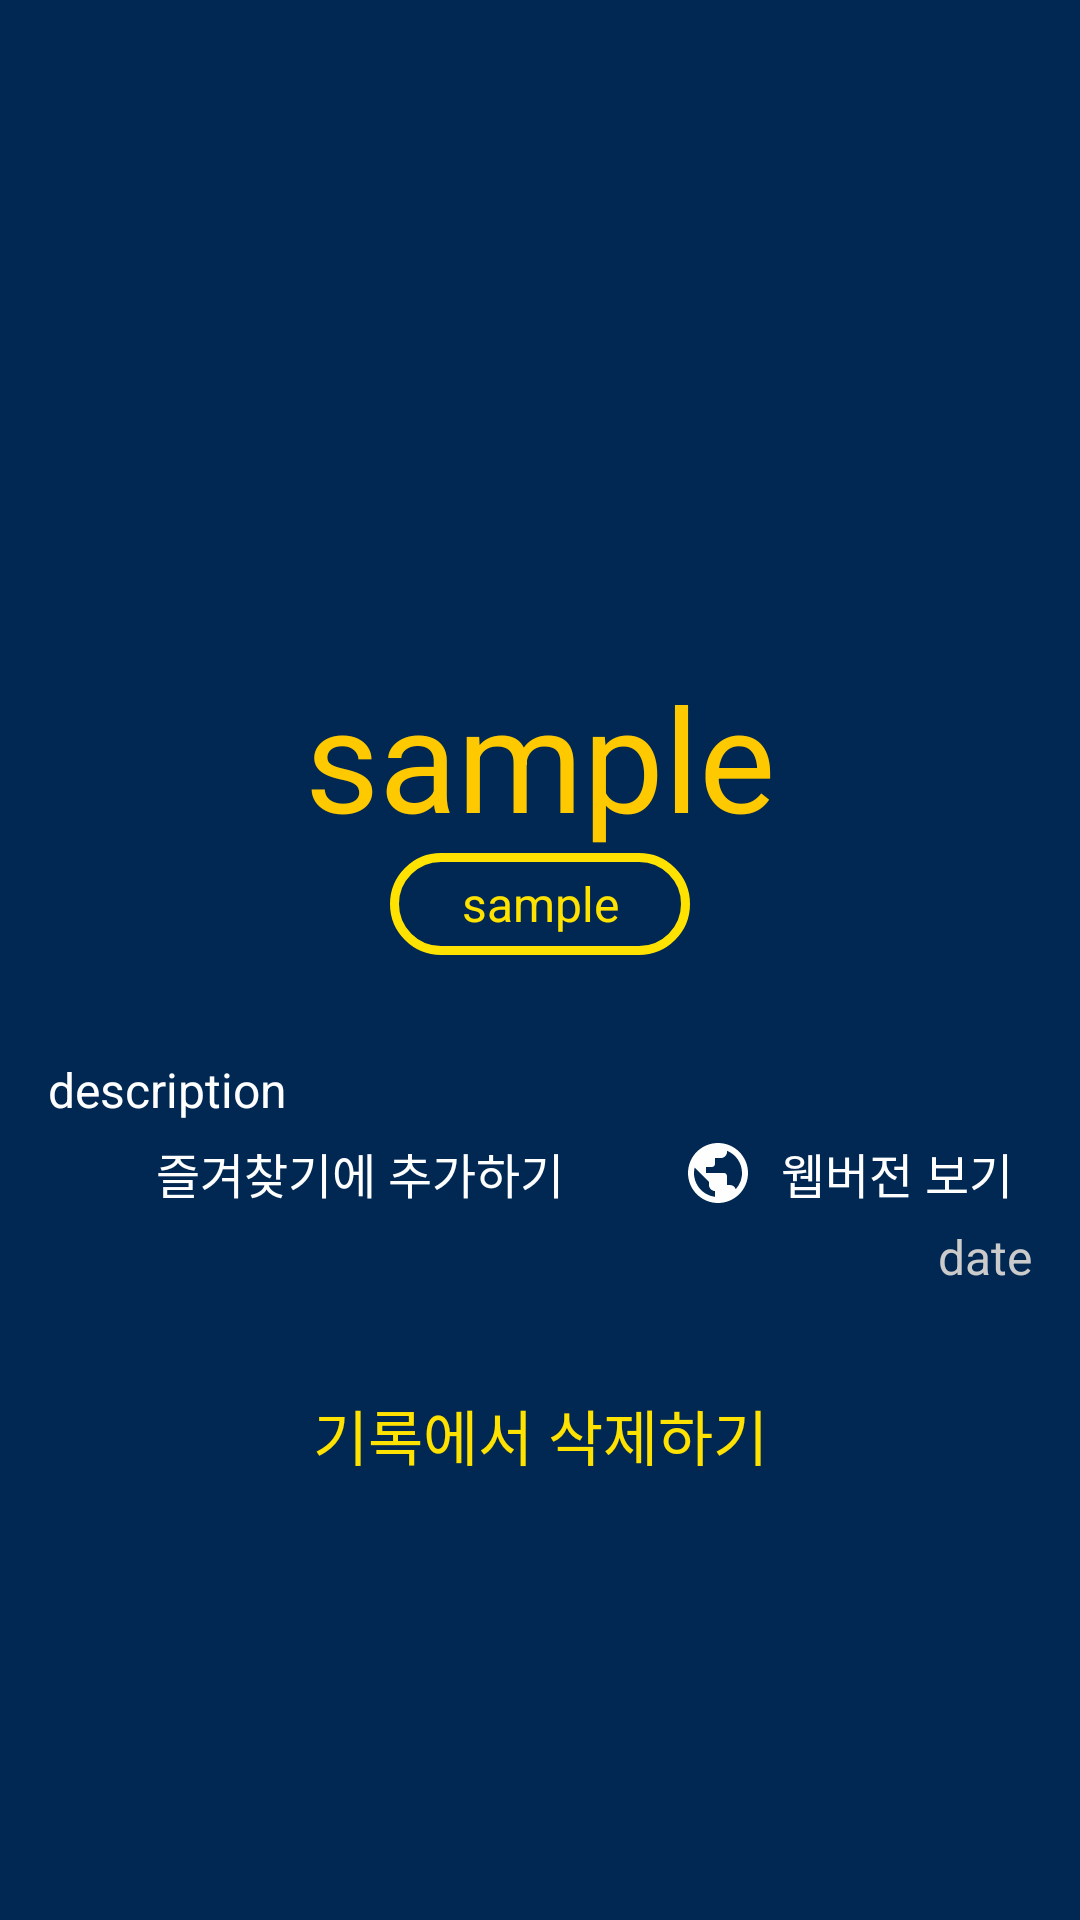

Point at icon controls on the screen. Image size 1080*1920, points as [x,y].
public: [718,1173]
